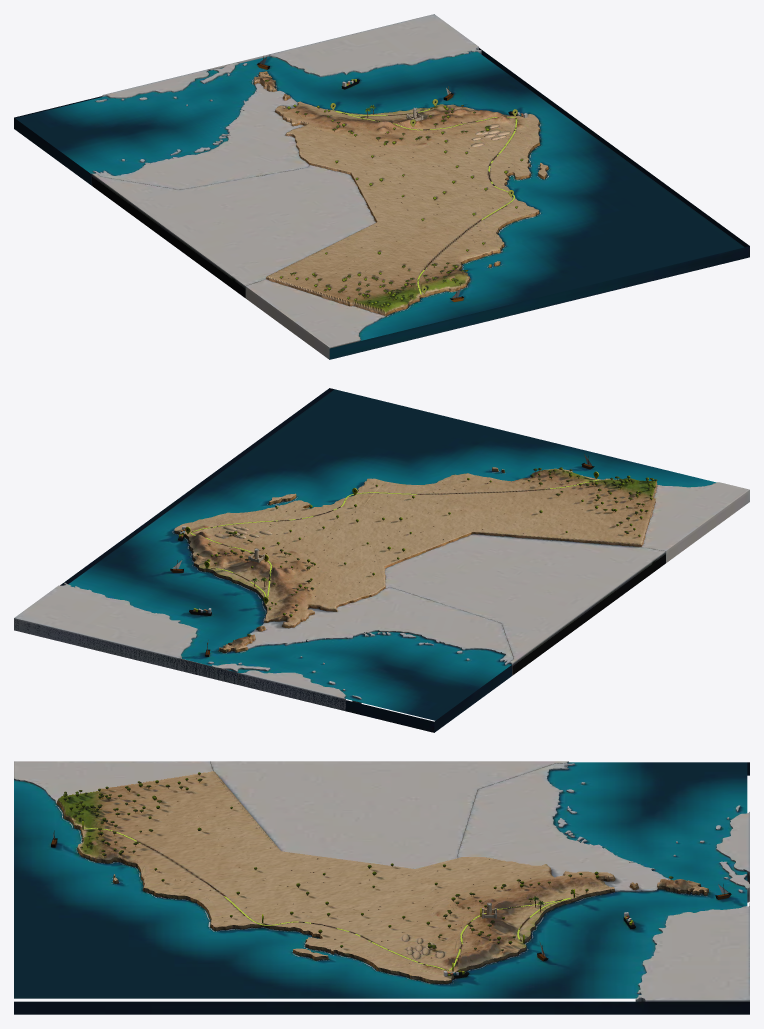
Rendered from oman-map-low.glb.
3 views of the same model, one above another, from view 1: azimuth 30°, elevation 25°; view 2: azimuth 150°, elevation 25°; view 3: azimuth 270°, elevation 25° (orthographic). The views are drawn at different scales.
Parts seen in each view (by area): view 1: static_sea, static_neighbours, static_terrain, static_landmarks, static_plinth; view 2: static_sea, static_neighbours, static_terrain, static_landmarks, static_plinth; view 3: static_sea, static_neighbours, static_terrain, static_landmarks, static_plinth, route_line.
Boxes of the visible parts, x1=… form: static_sea: x1=14, y1=48, x2=749, y2=359; static_neighbours: x1=91, y1=14, x2=481, y2=359; static_terrain: x1=254, y1=71, x2=547, y2=313; static_landmarks: x1=257, y1=56, x2=541, y2=307; static_plinth: x1=254, y1=72, x2=548, y2=316; static_sea: x1=15, y1=388, x2=716, y2=732; static_neighbours: x1=14, y1=482, x2=749, y2=710; static_terrain: x1=174, y1=467, x2=656, y2=649; static_landmarks: x1=170, y1=454, x2=657, y2=656; static_plinth: x1=174, y1=467, x2=657, y2=652; static_sea: x1=14, y1=762, x2=749, y2=1014; static_neighbours: x1=14, y1=761, x2=749, y2=1001; static_terrain: x1=57, y1=771, x2=707, y2=980; static_landmarks: x1=51, y1=772, x2=731, y2=978; static_plinth: x1=57, y1=801, x2=708, y2=983; route_line: x1=84, y1=827, x2=570, y2=970.
Size of the model in its own units: 935 by 67.08 by 1216.
12 materials, 11 textured.
